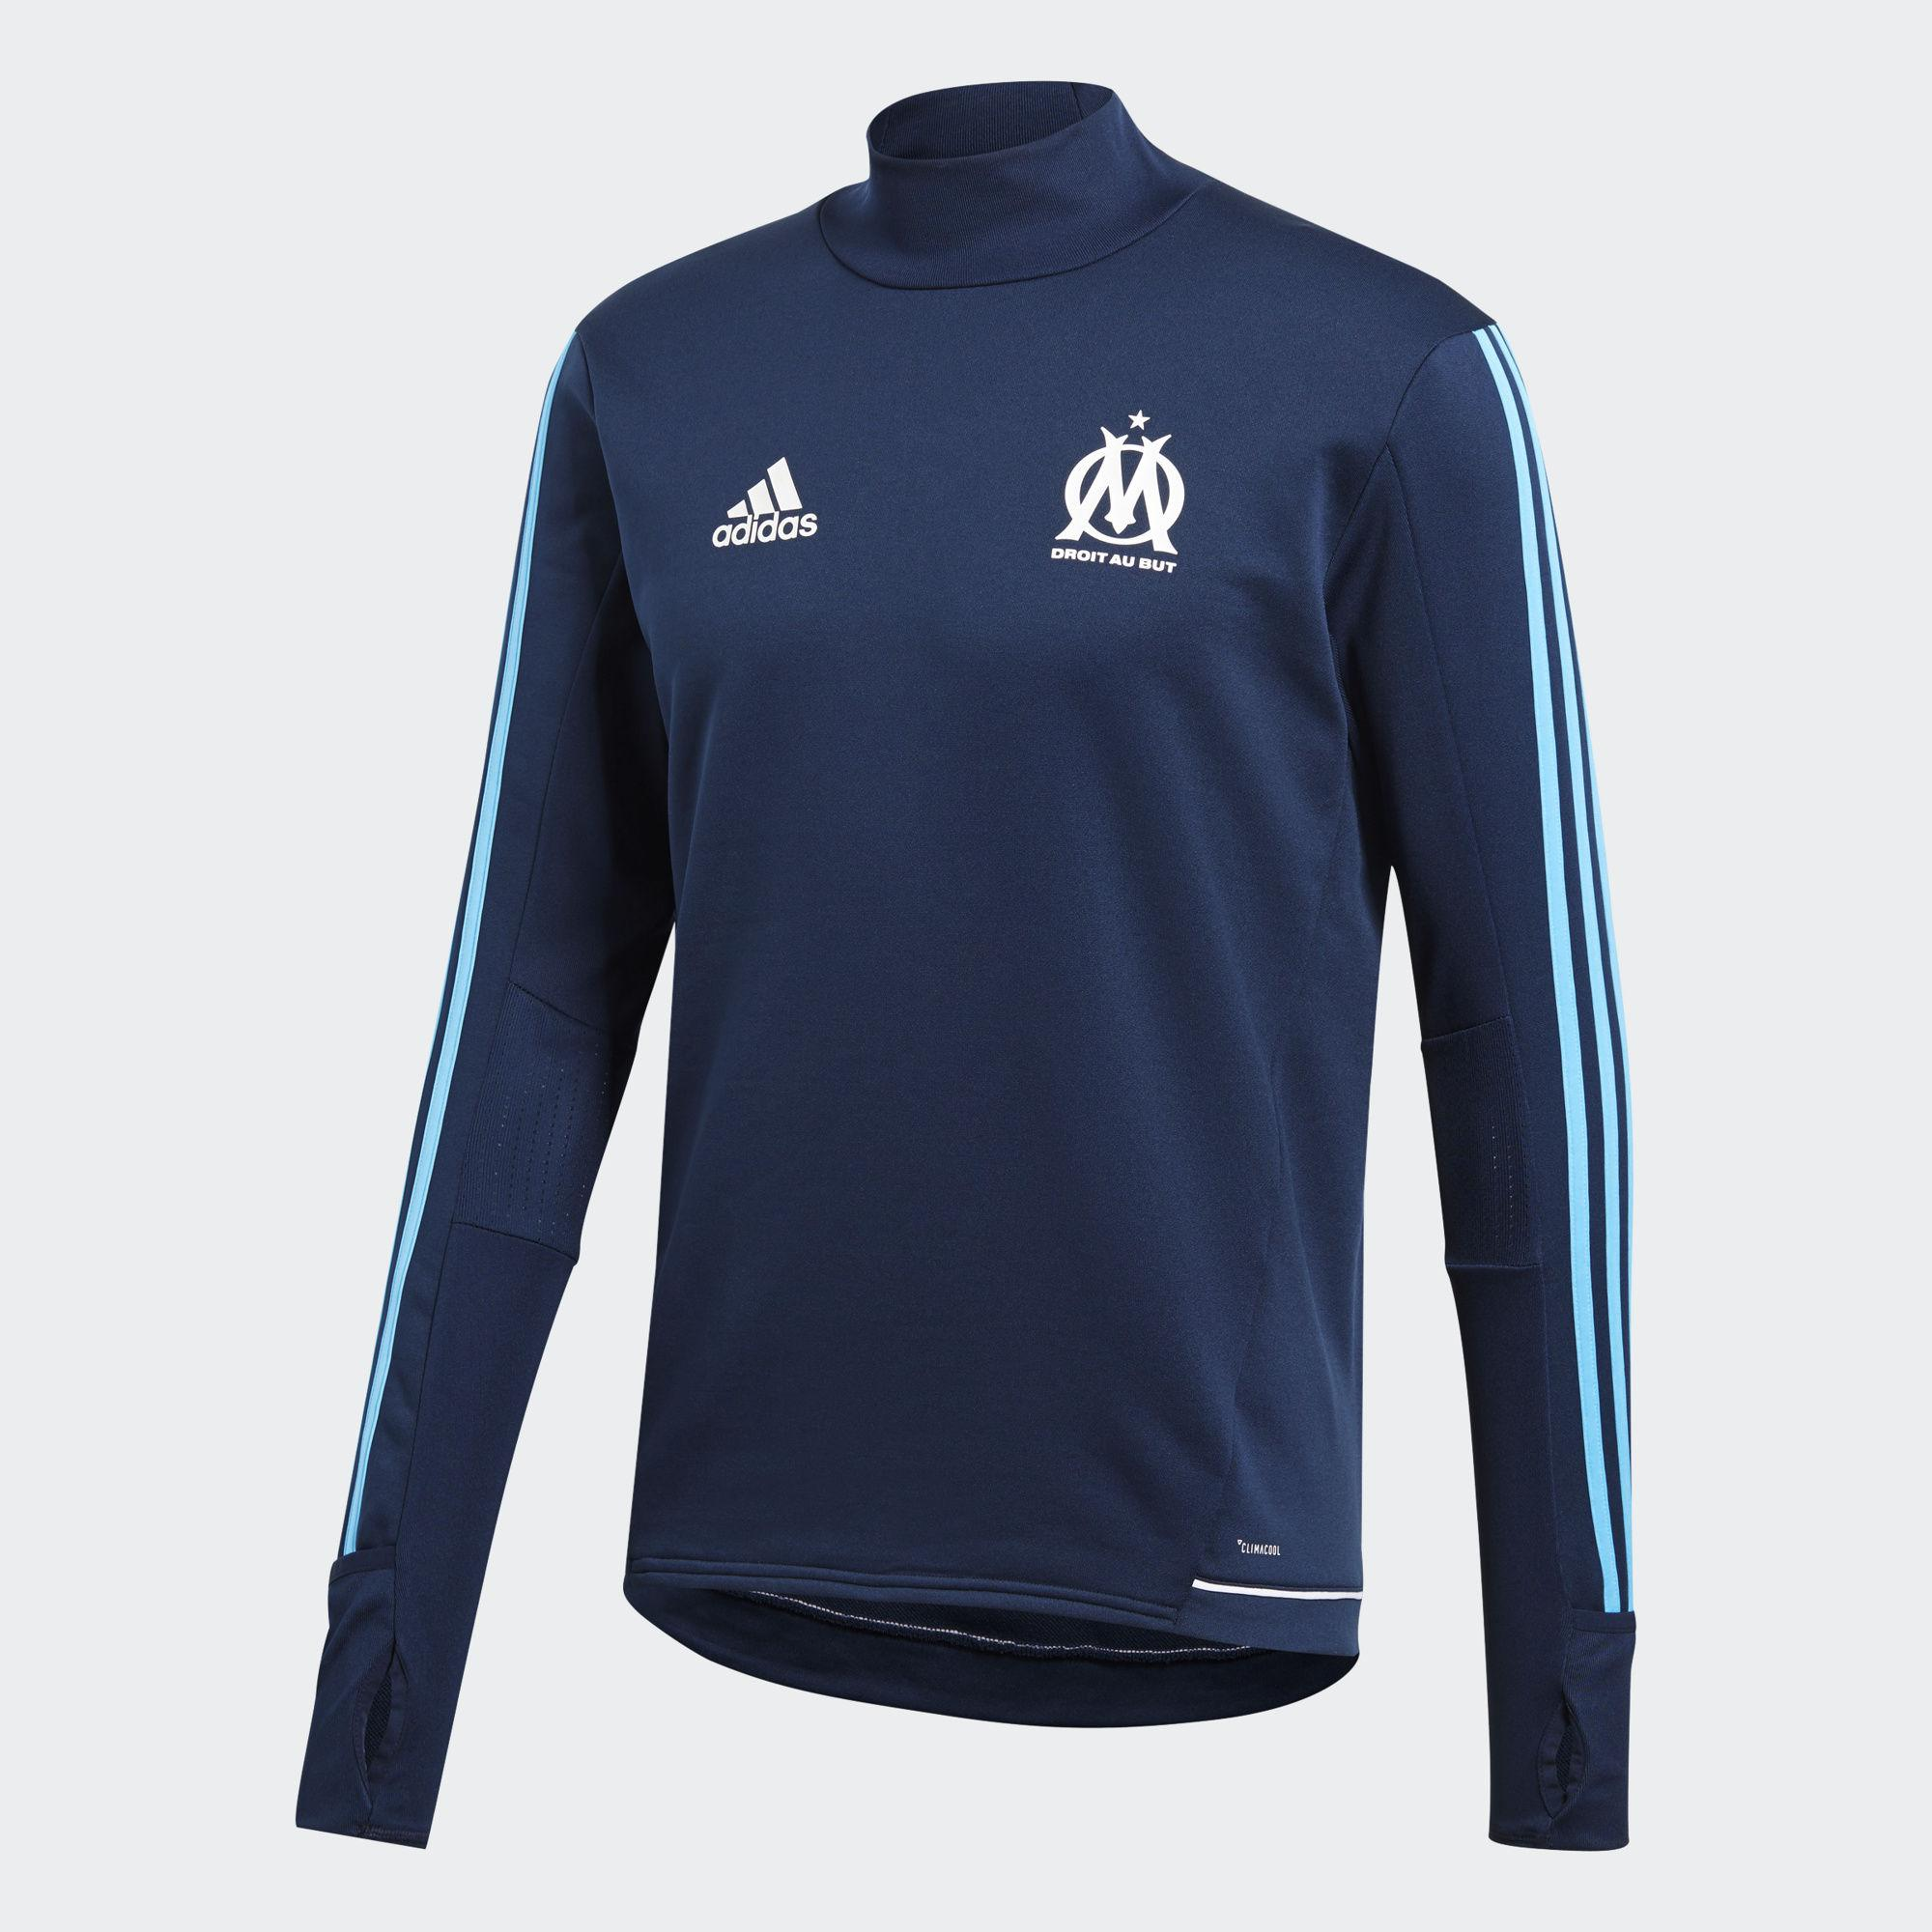teeshirt: (244, 58, 1716, 1923)
